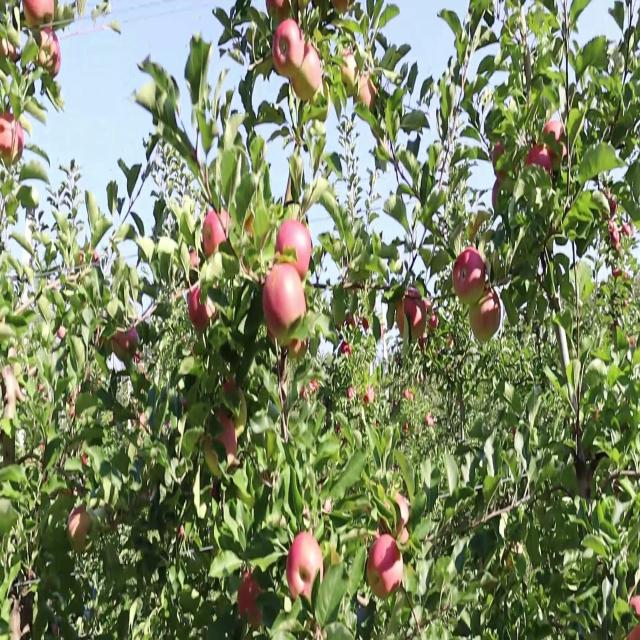apple: (264, 263, 308, 334), (288, 533, 326, 603), (368, 533, 404, 603), (276, 220, 312, 281), (452, 248, 488, 306), (272, 21, 304, 80), (292, 49, 324, 107), (472, 291, 504, 345), (236, 568, 264, 626), (204, 206, 233, 260), (540, 120, 568, 171), (213, 412, 239, 459), (188, 284, 212, 334), (68, 504, 92, 553), (40, 28, 63, 78), (524, 142, 552, 181), (340, 49, 360, 100), (0, 113, 15, 167), (356, 78, 378, 112), (612, 220, 633, 254), (268, 321, 292, 350), (392, 497, 411, 532), (492, 177, 509, 212), (600, 191, 618, 224), (404, 291, 423, 322), (24, 1, 44, 30), (268, 0, 293, 23), (312, 92, 329, 124), (288, 334, 309, 359), (628, 597, 640, 639), (112, 334, 130, 361), (492, 142, 507, 172), (413, 300, 427, 332), (412, 312, 427, 341), (8, 35, 21, 64), (428, 305, 440, 336), (68, 391, 80, 420), (16, 120, 24, 162), (128, 327, 140, 354), (332, 0, 352, 16), (224, 376, 239, 396), (244, 213, 256, 238), (44, 0, 56, 23), (332, 0, 351, 14), (396, 312, 406, 336), (44, 7, 56, 23), (192, 248, 200, 270), (420, 334, 428, 354), (60, 327, 68, 341), (84, 455, 88, 468), (5, 44, 7, 55)
